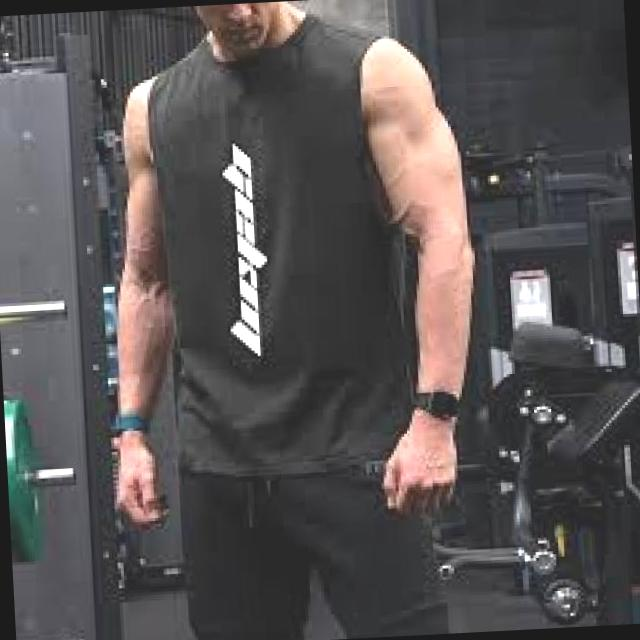no_vest: (144, 5, 431, 482)
